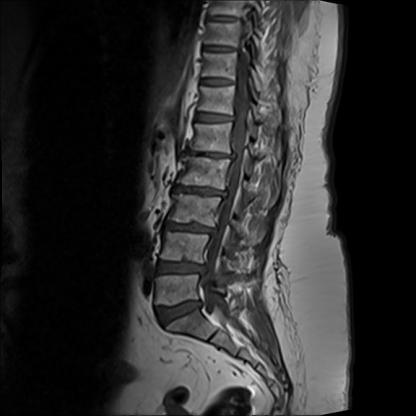Disc Bulgerotation: (167, 178, 231, 203), (180, 144, 242, 169), (153, 255, 214, 280), (161, 216, 221, 241)
